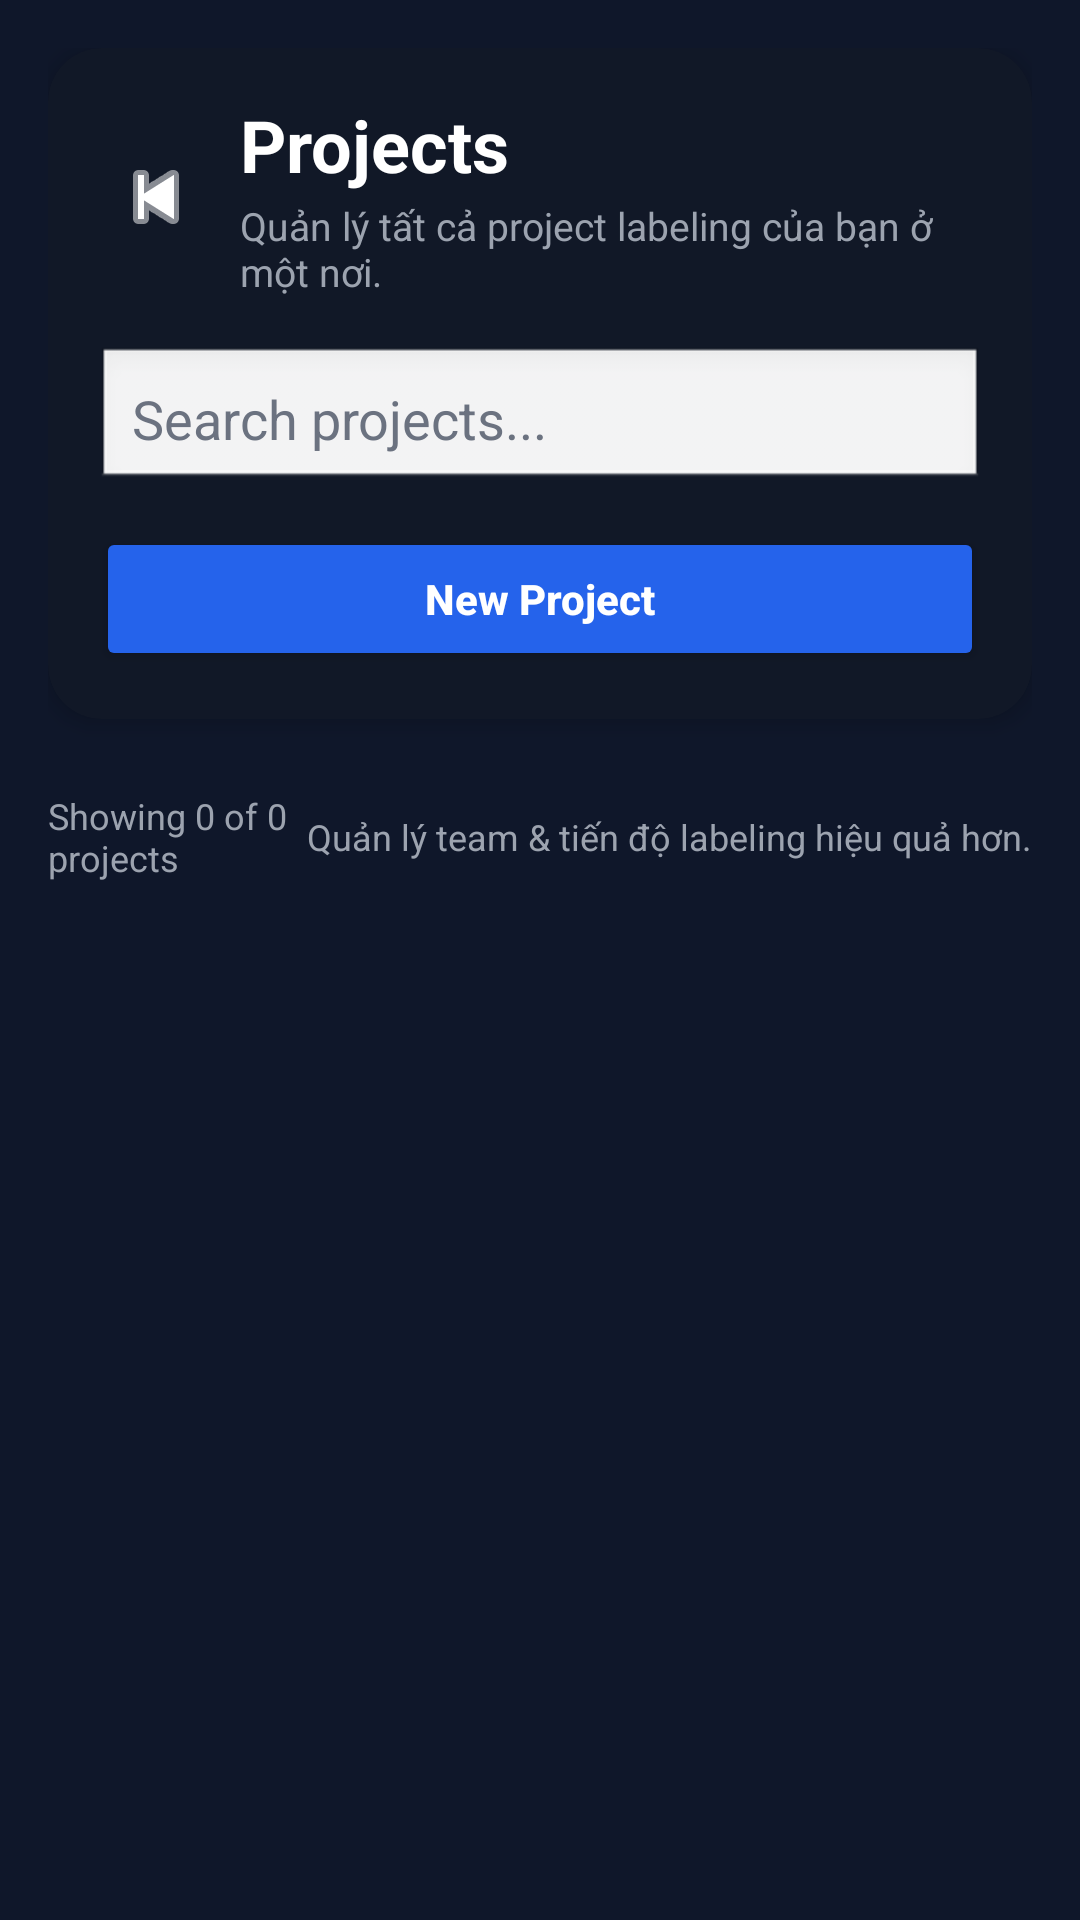

Screen size 1080px x 1920px. Icon name, then its center in pixels as [x,y]:
Back: [156,197]
